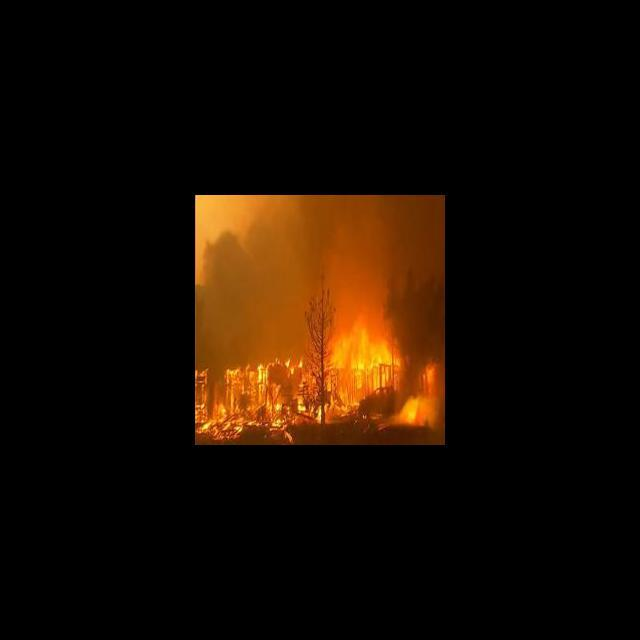Fire: (196, 356, 308, 440), (328, 310, 400, 392), (403, 394, 433, 426)
